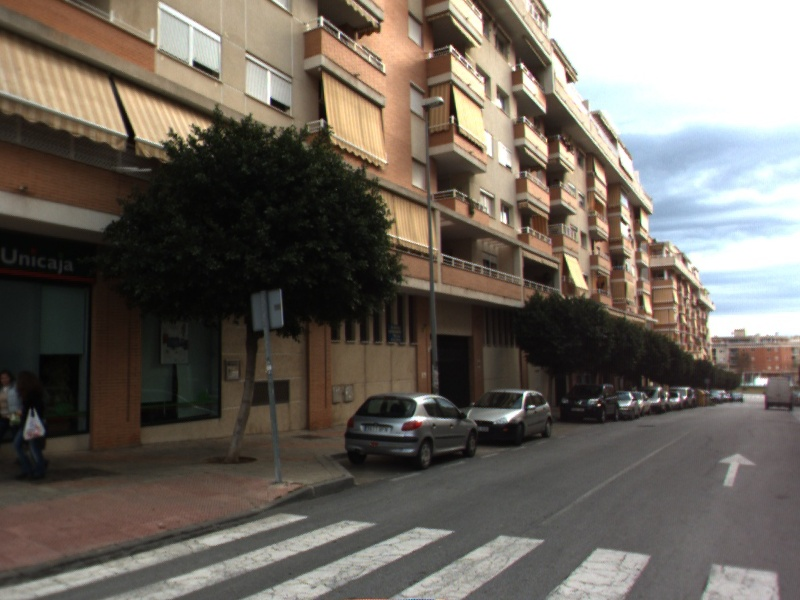STRAIGHT: (716, 451, 759, 489)
